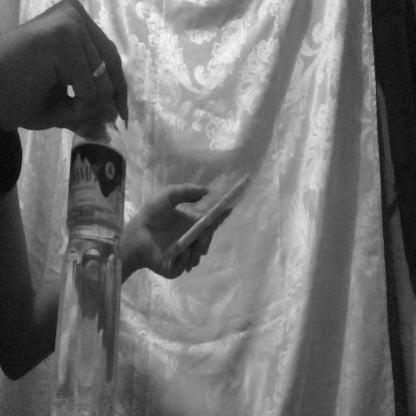Plastic Bottle: (56, 5, 143, 416)
